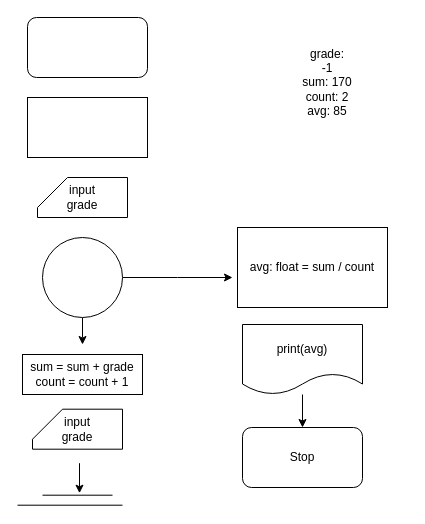
This 425x524 diagram has some shape labels left out. The shapes that lost their labels are listed below. From the top down, each one's centre as x and y in pixels, then its label:
At point 87,47: "Start".
At point 87,127: "grade: int = 0 sum: int = 0 count: int = 0".
At point 82,277: "while grade >=0 and grade <= 100".
